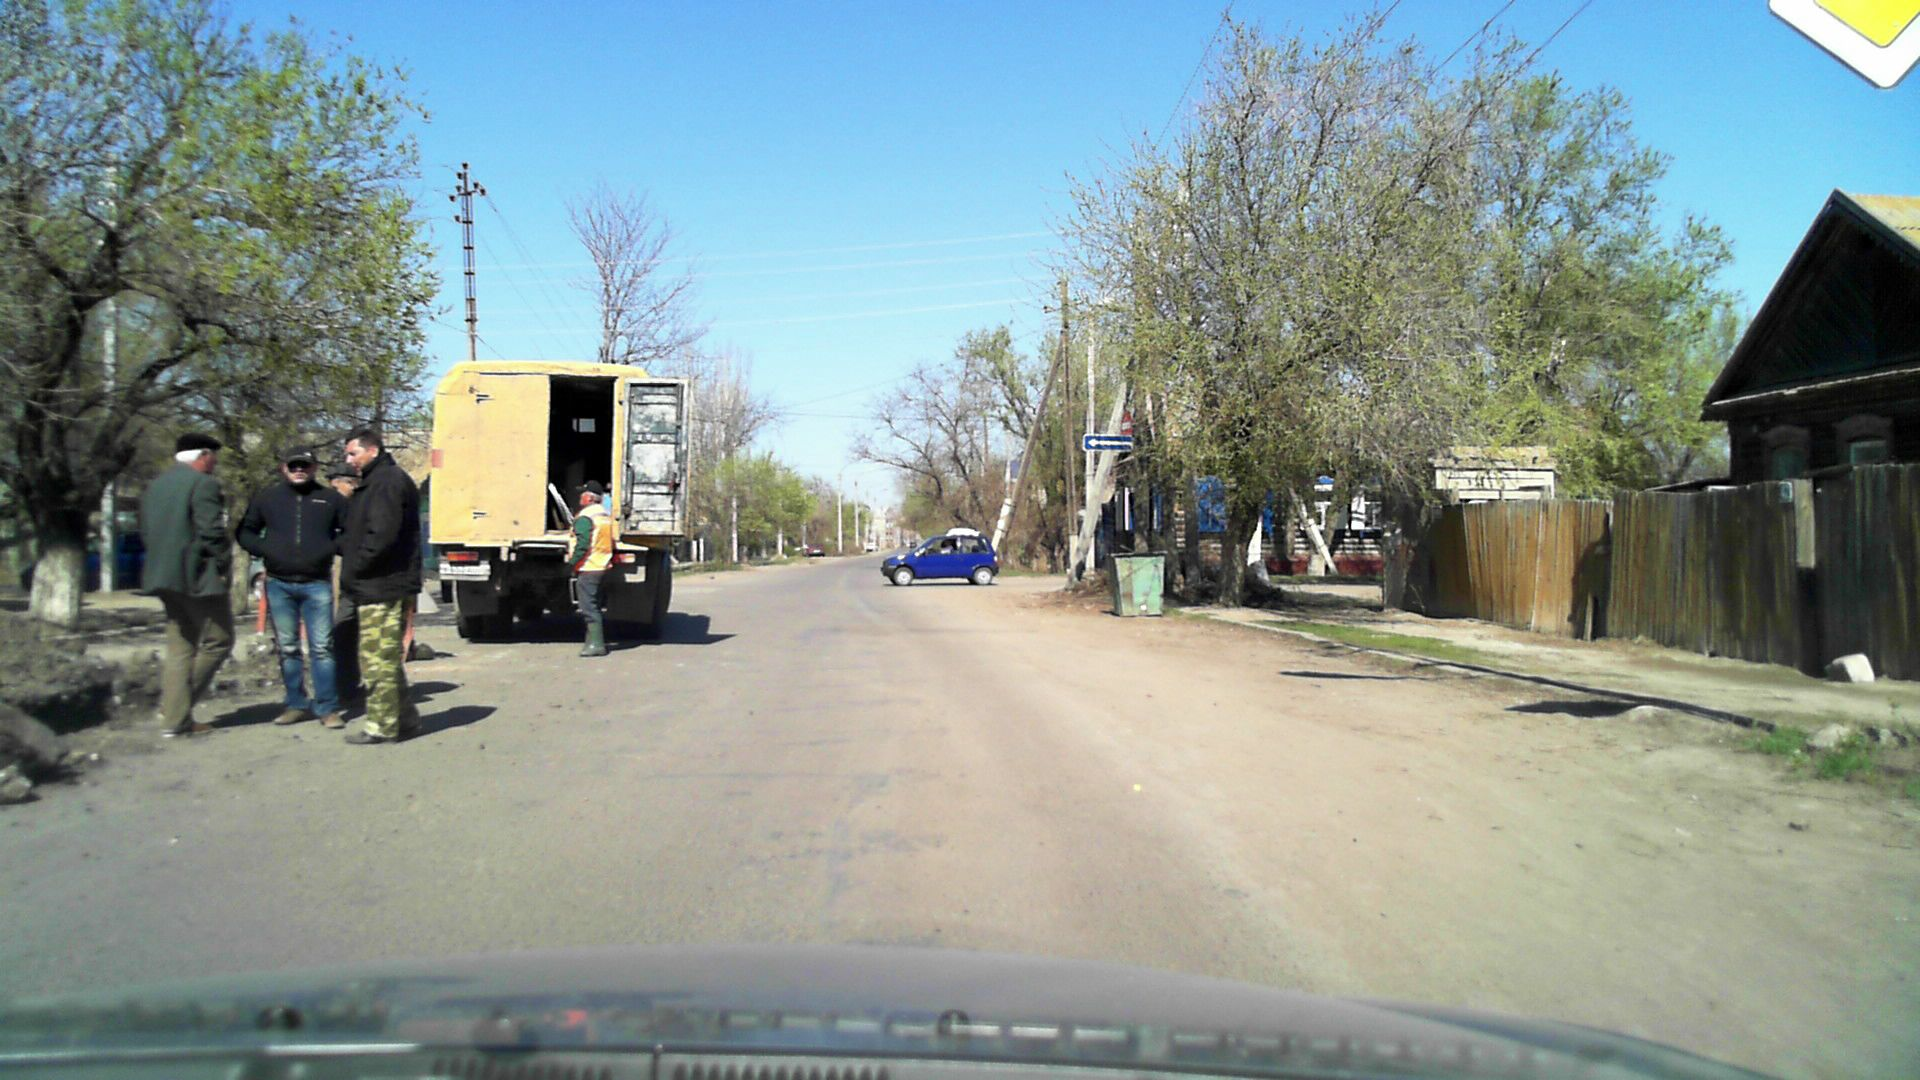One-Way Traffic: (1083, 435, 1135, 450)
